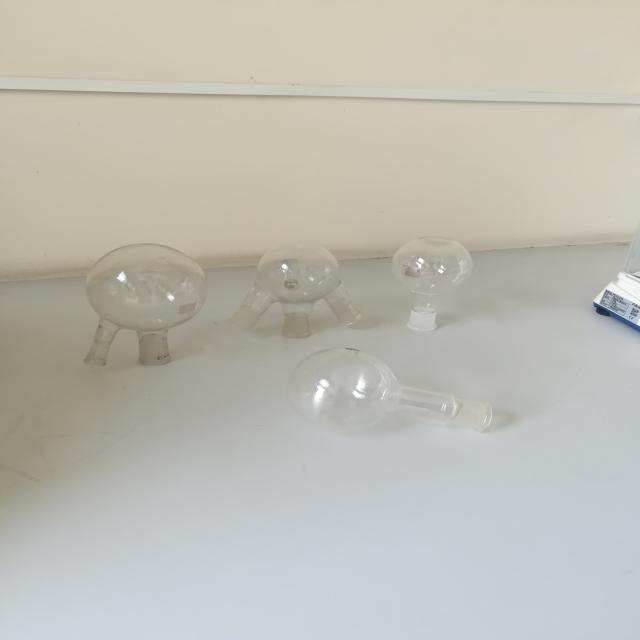Round_Bottom_Flask_Borosilicate_Glass_1_Neck: (286, 331, 516, 469), (383, 221, 494, 354)
Round_Bottom_Flask_Borosilicate_Glass_2_Neck: (61, 229, 227, 386)
Round_Bottom_Flask_Borosilicate_Glass_3_Neck: (228, 208, 373, 352)
